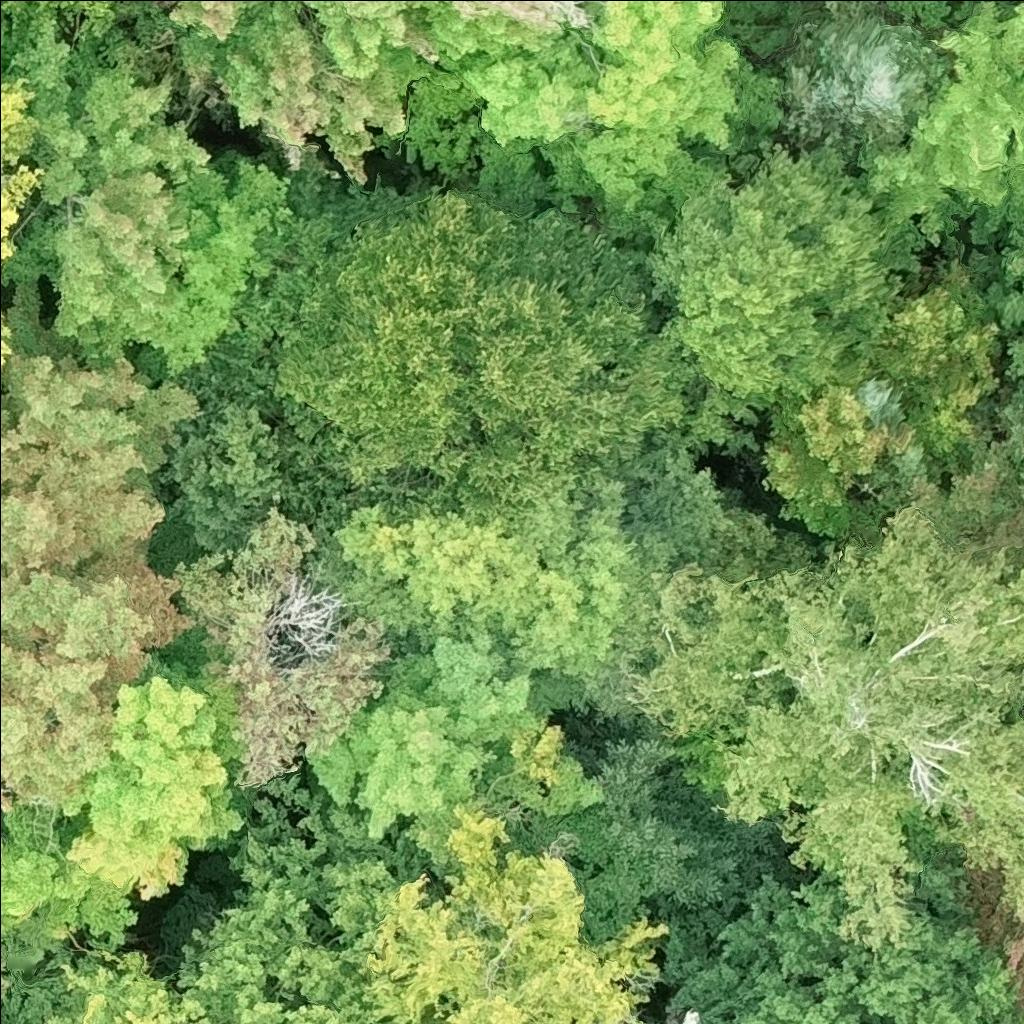crown: (618, 460, 1023, 953), (269, 186, 696, 534), (0, 763, 433, 1023), (401, 0, 788, 249), (322, 472, 646, 718), (164, 0, 577, 188), (645, 141, 897, 442), (307, 622, 604, 870), (0, 24, 215, 364), (0, 659, 249, 950), (365, 800, 669, 1023), (174, 491, 402, 788), (670, 849, 1023, 1023), (0, 349, 205, 580), (849, 0, 1023, 232), (150, 152, 304, 379), (777, 0, 953, 176), (856, 258, 1005, 459), (0, 551, 197, 679), (0, 625, 127, 819), (761, 387, 898, 546), (967, 170, 1023, 385), (0, 70, 44, 267), (0, 0, 122, 70), (968, 870, 1023, 1006), (846, 368, 911, 435), (995, 381, 1023, 499), (0, 912, 21, 1004), (0, 309, 16, 401), (0, 832, 9, 850)
